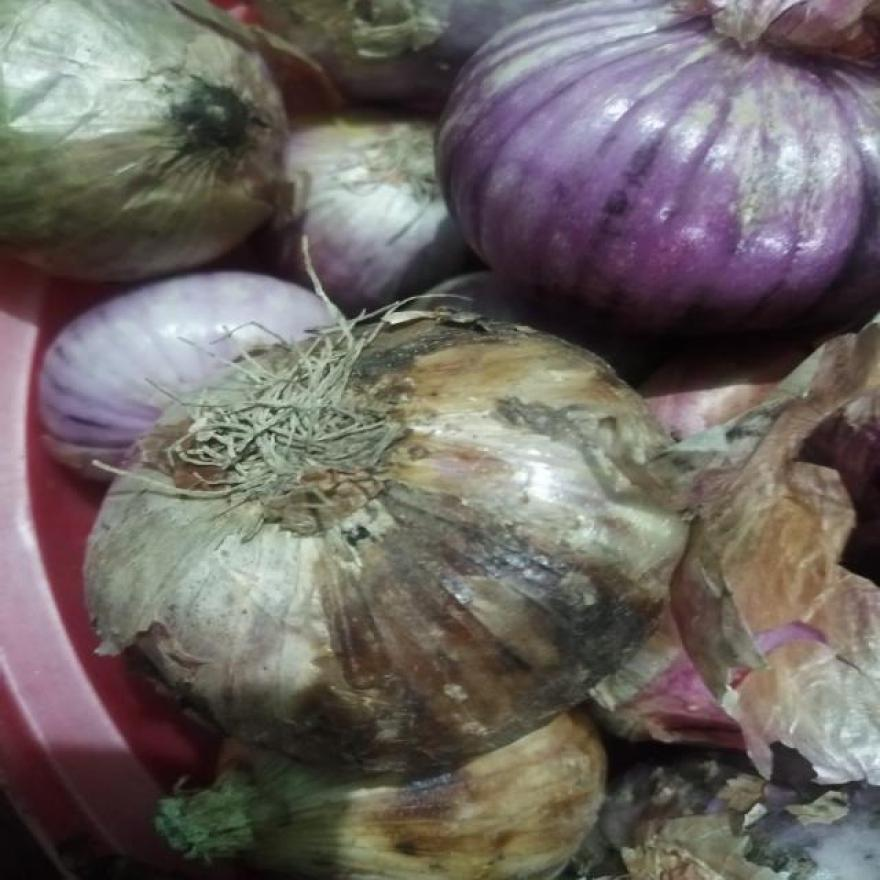Rotten: (287, 458, 648, 768), (139, 76, 297, 202)
